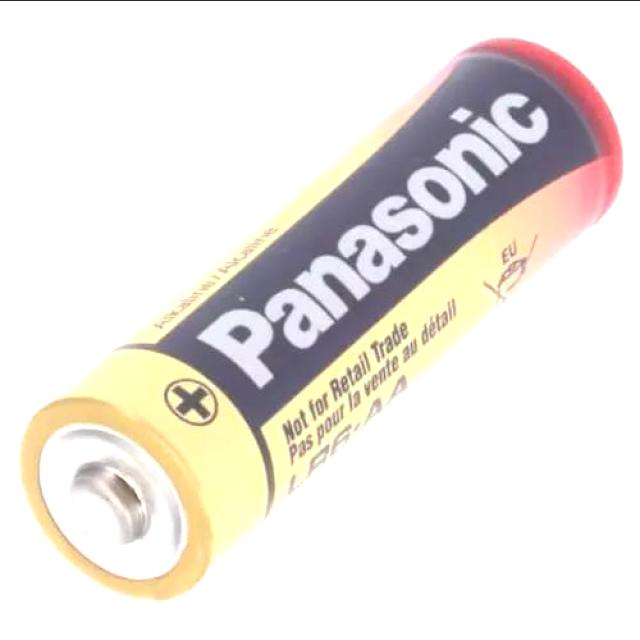AA: (14, 24, 630, 605)
